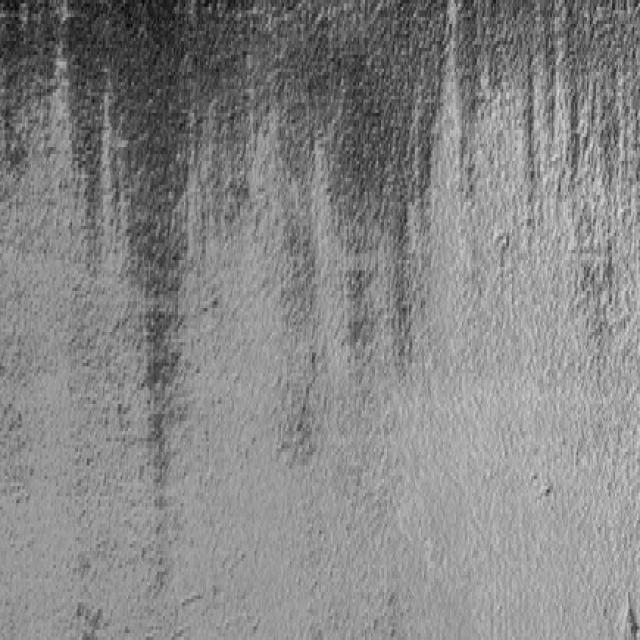stain marks: (2, 0, 640, 578)
